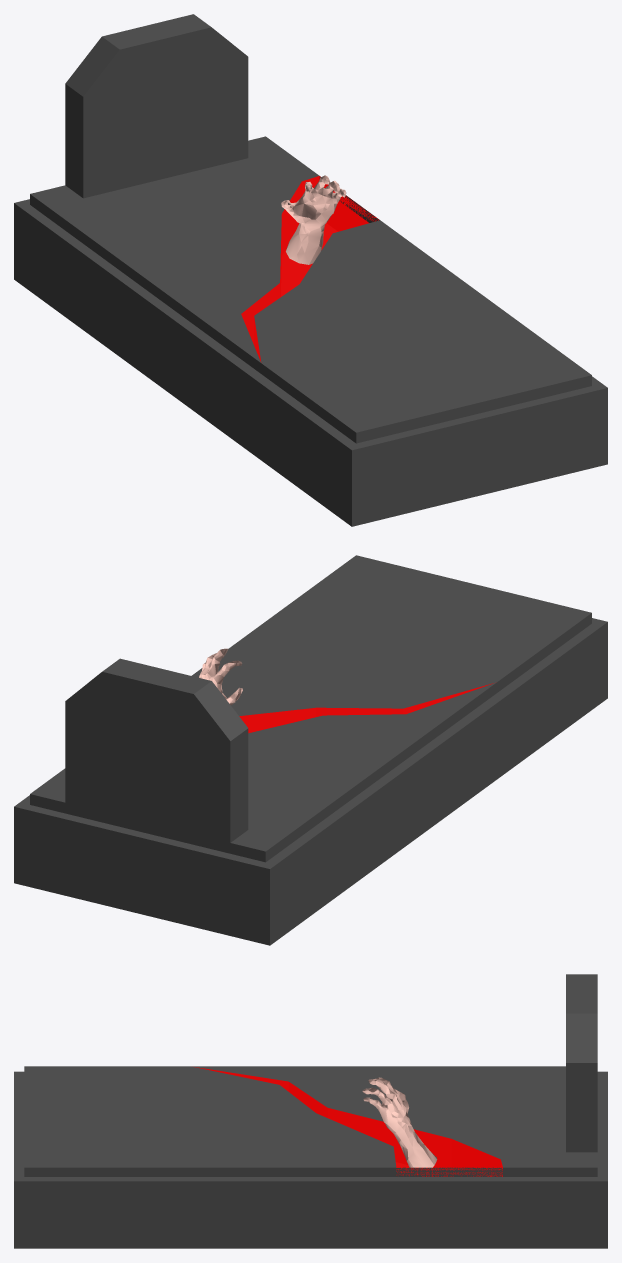
The model's file is 10 Stone_Grave_3.FBX.
3 renders of one model, top to bottom at view 1: azimuth 30°, elevation 25°; view 2: azimuth 150°, elevation 25°; view 3: azimuth 270°, elevation 25°, orthographic. The views are drawn at different scales.
Parts seen in each view (by area): view 1: Box051; view 2: Box051; view 3: Box051.
Boxes of the visible parts, bbox=[...] form: Box051: bbox=[14, 14, 607, 526]; Box051: bbox=[14, 555, 607, 945]; Box051: bbox=[14, 974, 607, 1248].
Size of the model in its own units: 700 by 594 by 1600.
